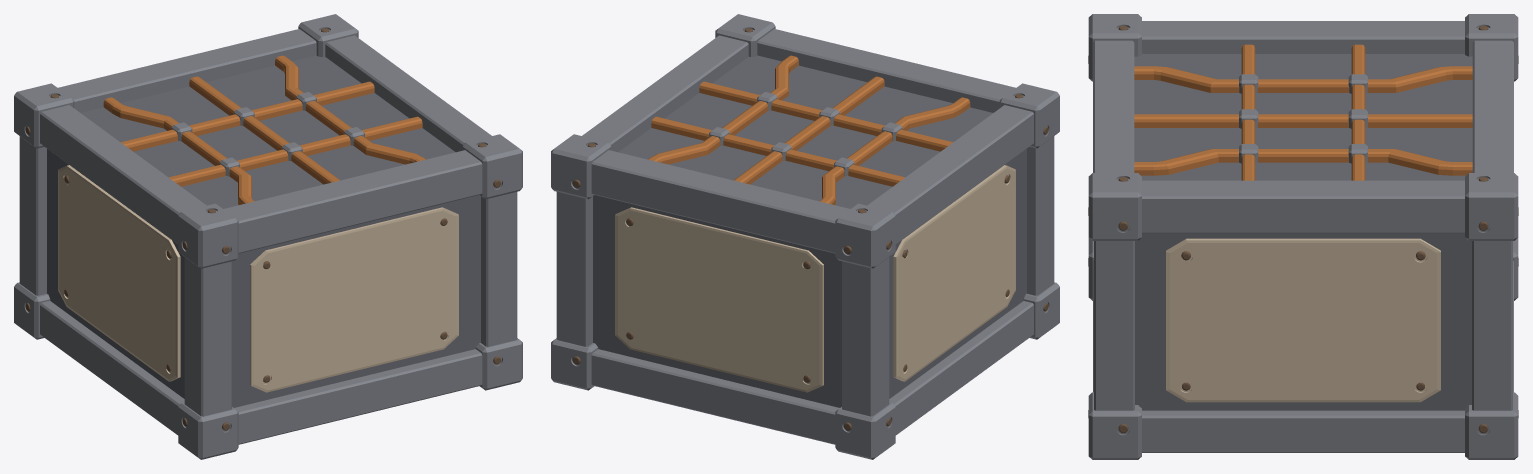
Rendered from bigbox.fbx.
3 views of the same model, side by side, from view 1: azimuth 30°, elevation 25°; view 2: azimuth 150°, elevation 25°; view 3: azimuth 270°, elevation 25° (orthographic). The views are drawn at different scales.
Visible parts, largest first — view 1: Cube, Cube.011, Cube.003, Cube.002, Cube.012, Cube.004, Cube.001, Cube.006, Cube.008, Cube.005, Cylinder.005; view 2: Cube, Cube.011, Cube.003, Cube.002, Cube.012, Cube.004, Cube.001, Cube.006, Cube.008, Cube.005, Cylinder.005; view 3: Cube.012, Cube, Cube.002, Cube.001, Cube.004, Cube.003, Cube.008, Cube.005, Cube.006, Cylinder.005, Cube.007, Cube.009 (+1 smaller).
Boxes of the visible parts, <box> form: Cube: <box>47,55,480,407</box>; Cube.011: <box>250,207,458,392</box>; Cube.003: <box>58,29,482,444</box>; Cube.002: <box>40,35,491,435</box>; Cube.012: <box>58,165,180,381</box>; Cube.004: <box>19,136,517,416</box>; Cube.001: <box>14,14,522,459</box>; Cube.006: <box>121,81,422,186</box>; Cube.008: <box>103,55,425,204</box>; Cube.005: <box>189,76,339,184</box>; Cylinder.005: <box>25,28,501,430</box>; Cube: <box>593,55,1026,407</box>; Cube.011: <box>615,207,823,392</box>; Cube.003: <box>591,29,1015,444</box>; Cube.002: <box>582,35,1033,435</box>; Cube.012: <box>893,165,1015,381</box>; Cube.004: <box>556,136,1054,416</box>; Cube.001: <box>551,14,1059,459</box>; Cube.006: <box>651,81,952,186</box>; Cube.008: <box>648,55,970,204</box>; Cube.005: <box>734,76,884,184</box>; Cylinder.005: <box>572,28,1048,430</box>; Cube.012: <box>1166,238,1440,402</box>; Cube: <box>1134,54,1472,410</box>; Cube.002: <box>1142,21,1464,452</box>; Cube.001: <box>1088,14,1518,459</box>; Cube.004: <box>1094,241,1512,410</box>; Cube.003: <box>1093,40,1513,392</box>; Cube.008: <box>1134,66,1472,175</box>; Cube.005: <box>1134,114,1472,127</box>; Cube.006: <box>1241,44,1365,180</box>; Cylinder.005: <box>1088,25,1518,432</box>; Cube.007: <box>1239,109,1367,128</box>; Cube.009: <box>1239,144,1367,163</box>.
Size of the model in its own units: 314 by 216 by 313.
